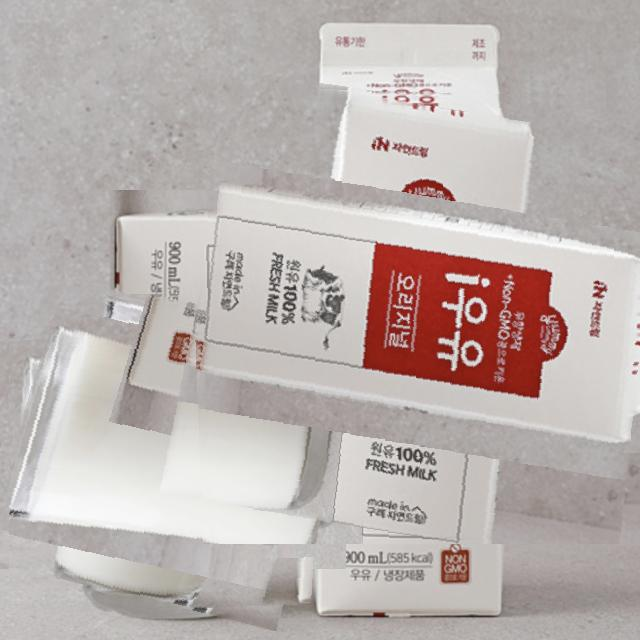biodegradable: (186, 85, 640, 544)
recyclable: (9, 294, 330, 616)
